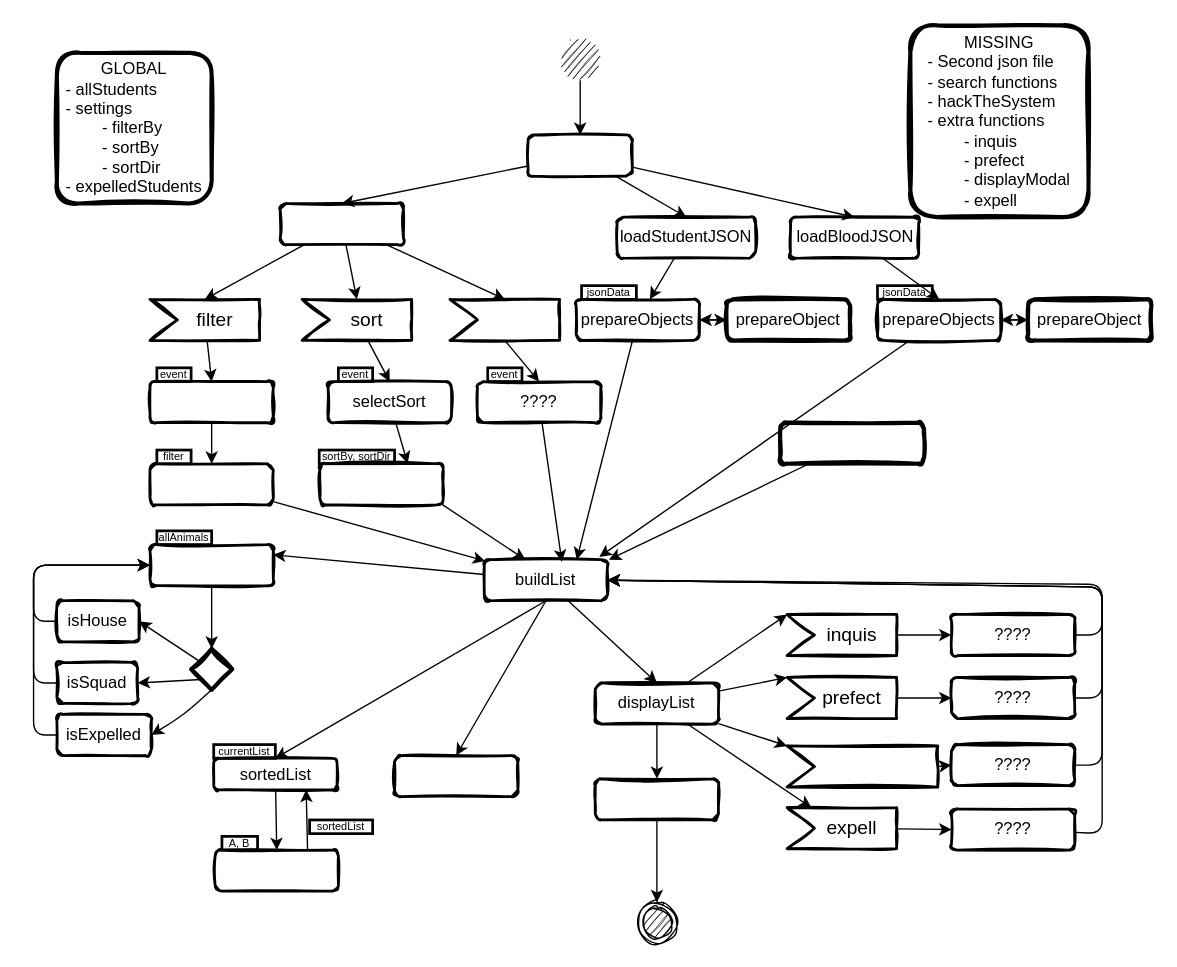
Some shapes in this 1177 by 967 pixel diagram are drawn without their labels. The shapes that lost their labels are listed below. From the top down, each one's box as (x1, y1, x2, y2) in pixels, then its label:
(526, 133, 633, 177): Start
(278, 201, 404, 245): registerButtons
(448, 297, 560, 341): search
(148, 379, 274, 423): selectFilter
(777, 420, 925, 465): hackTheSystem
(148, 462, 274, 506): setFilter
(318, 462, 444, 506): setSort
(148, 543, 274, 586): filterList
(393, 754, 519, 797): searchList
(785, 744, 938, 788): displayModal
(593, 777, 719, 821): displayStudent
(213, 848, 339, 892): sortByProperty
